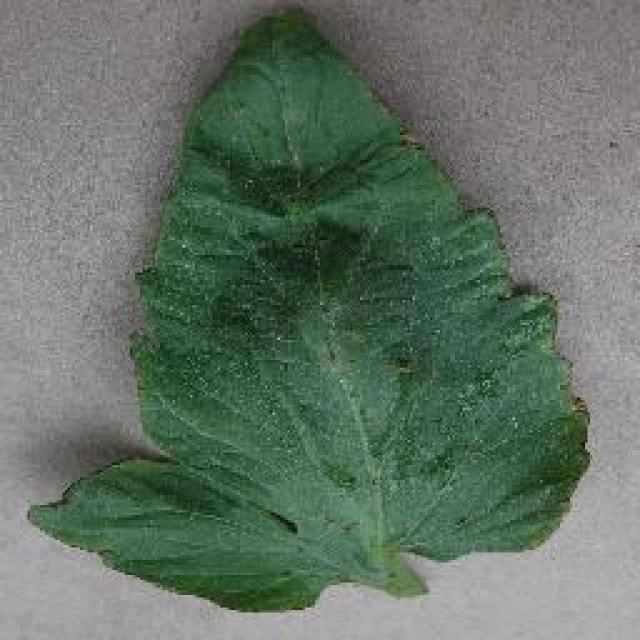Tomato bacterial spot leaf: (38, 14, 590, 611)
